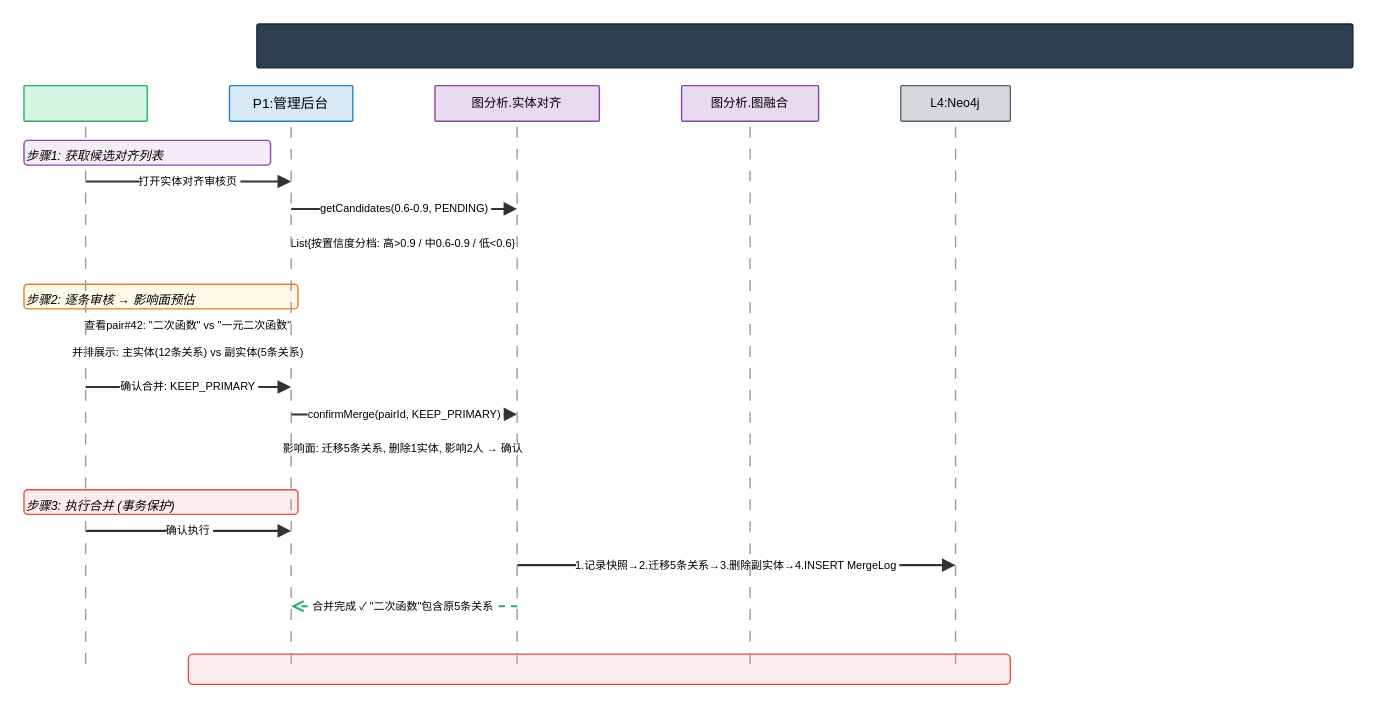
This 1377x708 diagram has some shape labels left out. The shapes that lost their labels are listed below. From the top down, each one's centre as x and y in pixels, then its label:
the point at 804,45: S3 · 实体对齐审核与合并 (UC-04 · Story 1.3)
the point at 85,102: 管理员(A1)
the point at 598,668: ★ 回滚: rollbackMerge(mergeLogId) → 读快照 → 重建副实体 → 还原关系 → 重置PENDING
